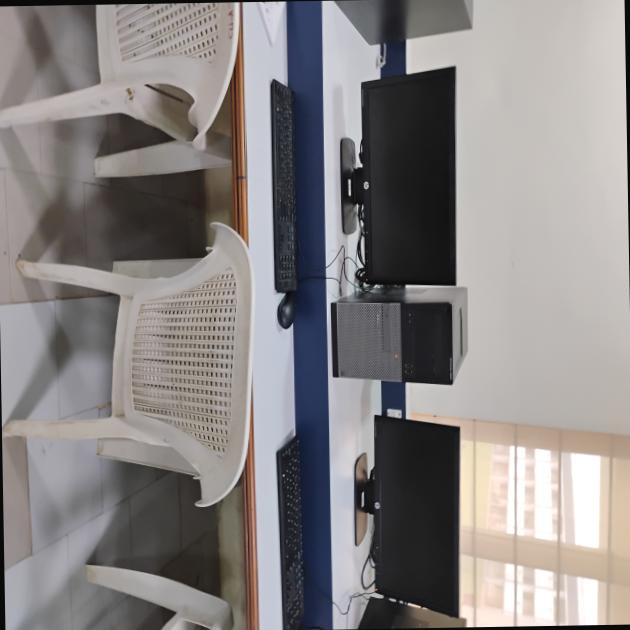chair: (0, 235, 261, 529)
computer: (324, 58, 474, 298), (338, 416, 482, 624)
keyboard: (264, 67, 308, 290), (268, 437, 305, 630)
